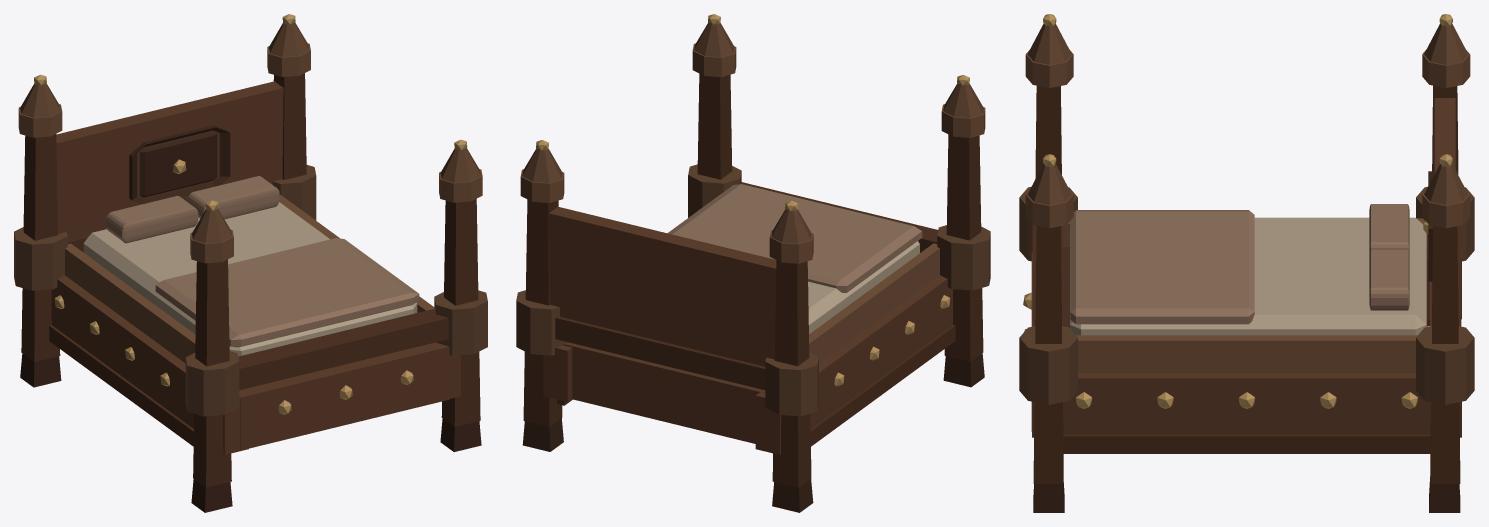
File: BedFrame.fbx
3 views of the same model, side by side, from view 1: azimuth 30°, elevation 25°; view 2: azimuth 150°, elevation 25°; view 3: azimuth 270°, elevation 25° (orthographic). The views are drawn at different scales.
Visible parts, largest first — view 1: FootBoard.001, BedPost_3.001, Cube.002, PostDecor_3.002, Cube, LowerDecoration_-1, HeadboardCenter, LeftDecorativePanel, PostTop_3.003, BedFrame, Cube.003, Cube.001 (+1 smaller); view 2: FootBoard.001, BedPost_3.001, PostDecor_3.002, Cube.002, LowerDecoration_-1, LeftDecorativePanel, PostTop_3.003, BedFrame, Cube, SideDecoration_-1_4.002; view 3: FootBoard.001, Cube.002, Cube, PostDecor_3.002, BedPost_3.001, LeftDecorativePanel, LowerDecoration_-1, PostTop_3.003, Cube.001, Cube.003, SideDecoration_-1_4.002, BedFrame (+1 smaller).
Boxes of the visible parts, left/top/right/bottom form: FootBoard.001: left=51, top=81, right=460, bottom=454; BedPost_3.001: left=21, top=73, right=480, bottom=487; Cube.002: left=155, top=238, right=419, bottom=347; PostDecor_3.002: left=14, top=22, right=487, bottom=416; Cube: left=83, top=202, right=417, bottom=356; LowerDecoration_-1: left=49, top=236, right=448, bottom=446; HeadboardCenter: left=129, top=125, right=230, bottom=204; LeftDecorativePanel: left=65, top=195, right=434, bottom=363; PostTop_3.003: left=18, top=43, right=482, bottom=263; BedFrame: left=20, top=353, right=481, bottom=512; Cube.003: left=106, top=195, right=198, bottom=243; Cube.001: left=187, top=176, right=279, bottom=219; FootBoard.001: left=543, top=206, right=952, bottom=454; BedPost_3.001: left=523, top=73, right=983, bottom=487; PostDecor_3.002: left=516, top=22, right=990, bottom=416; Cube.002: left=667, top=184, right=922, bottom=292; LowerDecoration_-1: left=555, top=182, right=955, bottom=446; LeftDecorativePanel: left=809, top=243, right=939, bottom=362; PostTop_3.003: left=520, top=43, right=985, bottom=263; BedFrame: left=522, top=353, right=984, bottom=512; Cube: left=808, top=241, right=919, bottom=333; SideDecoration_-1_4.002: left=536, top=14, right=969, bottom=386; FootBoard.001: left=1031, top=98, right=1461, bottom=437; Cube.002: left=1070, top=210, right=1254, bottom=324; Cube: left=1070, top=217, right=1426, bottom=335; PostDecor_3.002: left=1019, top=23, right=1474, bottom=404; BedPost_3.001: left=1033, top=85, right=1460, bottom=483; LeftDecorativePanel: left=1063, top=218, right=1428, bottom=372; LowerDecoration_-1: left=1032, top=225, right=1461, bottom=453; PostTop_3.003: left=1025, top=49, right=1470, bottom=228; Cube.001: left=1369, top=250, right=1409, bottom=310; Cube.003: left=1369, top=204, right=1409, bottom=254; SideDecoration_-1_4.002: left=1023, top=14, right=1452, bottom=408; BedFrame: left=1033, top=476, right=1460, bottom=512.
Size of the model in its own units: 2.46 by 2.39 by 2.8.
